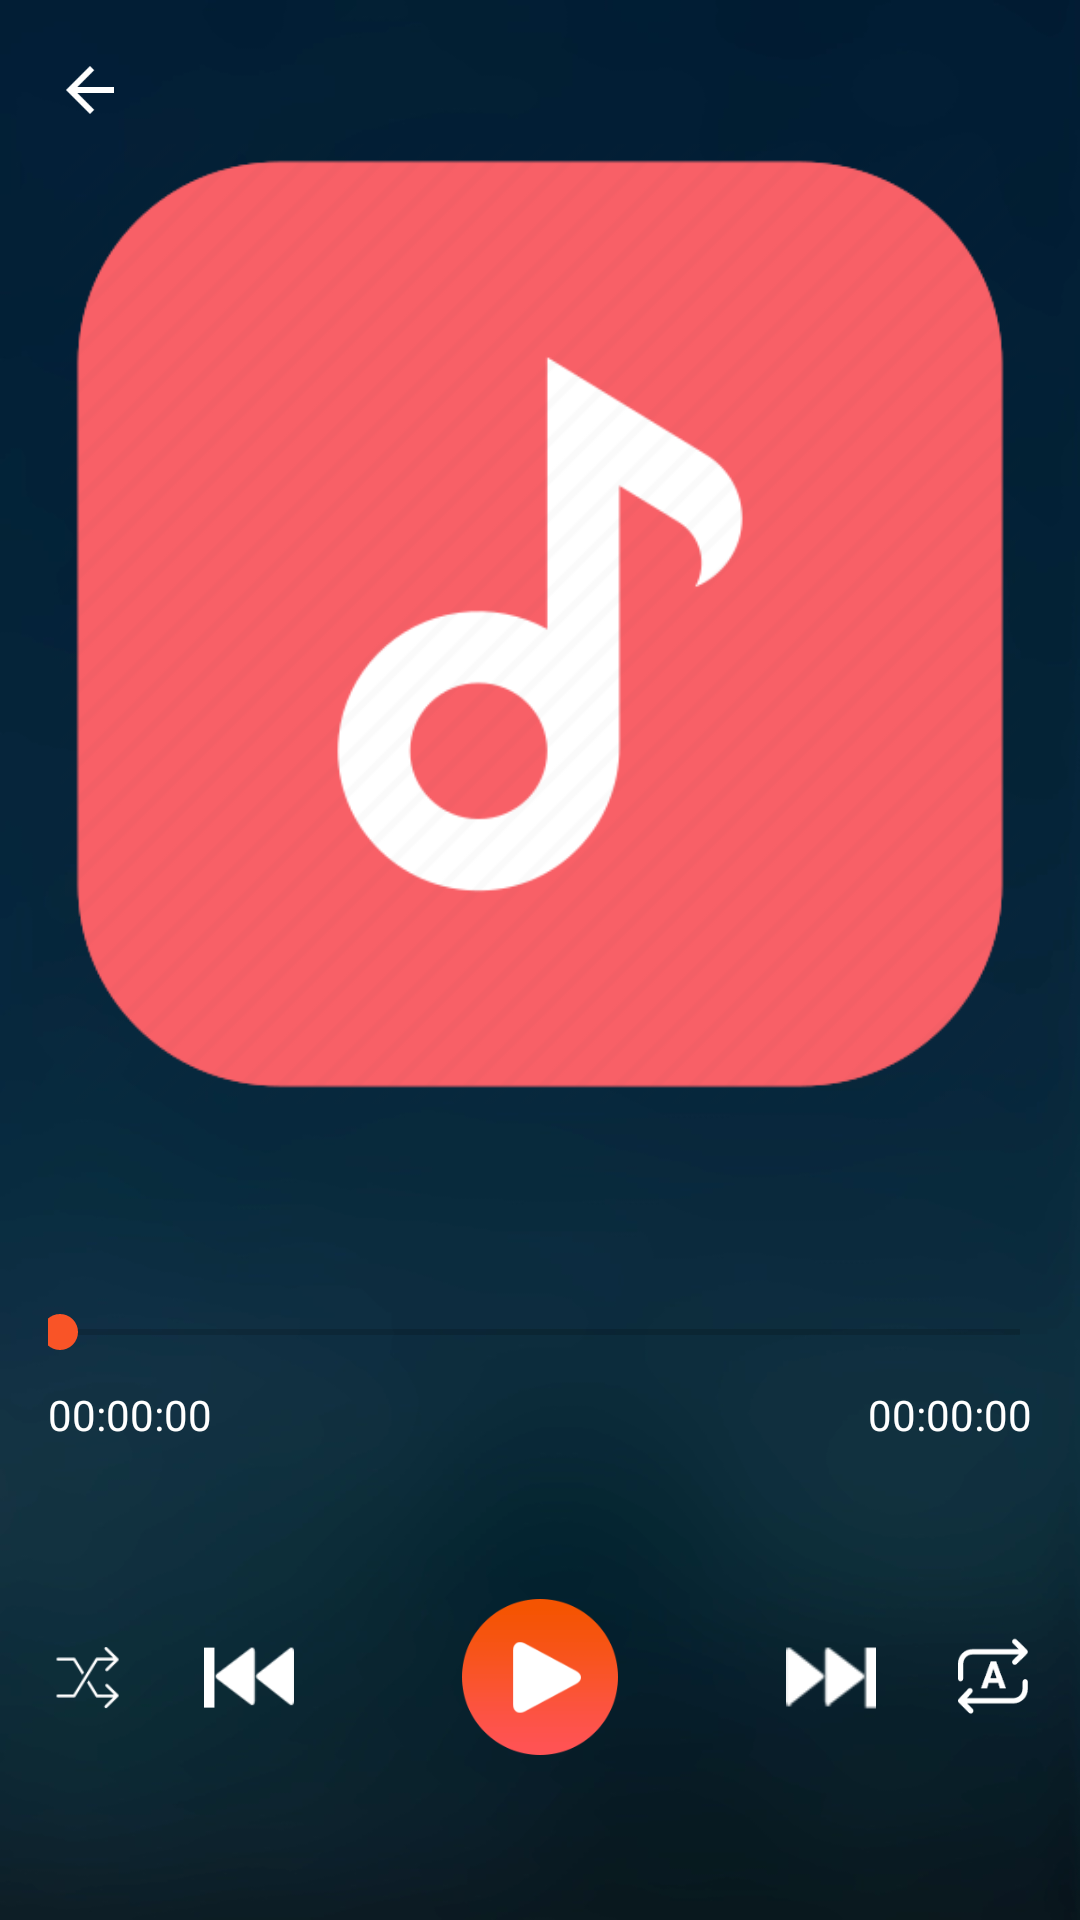

Screen size 1080*1920. Icon name, then its box in pixels as {"left": x1, "top": y1, "right": x2, "bottom": y2}:
auto next repeatqueue: {"left": 958, "top": 1638, "right": 1028, "bottom": 1714}
back: {"left": 66, "top": 66, "right": 114, "bottom": 114}
next widget: {"left": 786, "top": 1647, "right": 876, "bottom": 1709}
play max: {"left": 462, "top": 1599, "right": 618, "bottom": 1755}
previous widget: {"left": 204, "top": 1647, "right": 294, "bottom": 1708}
shuffter sel: {"left": 56, "top": 1647, "right": 119, "bottom": 1708}
